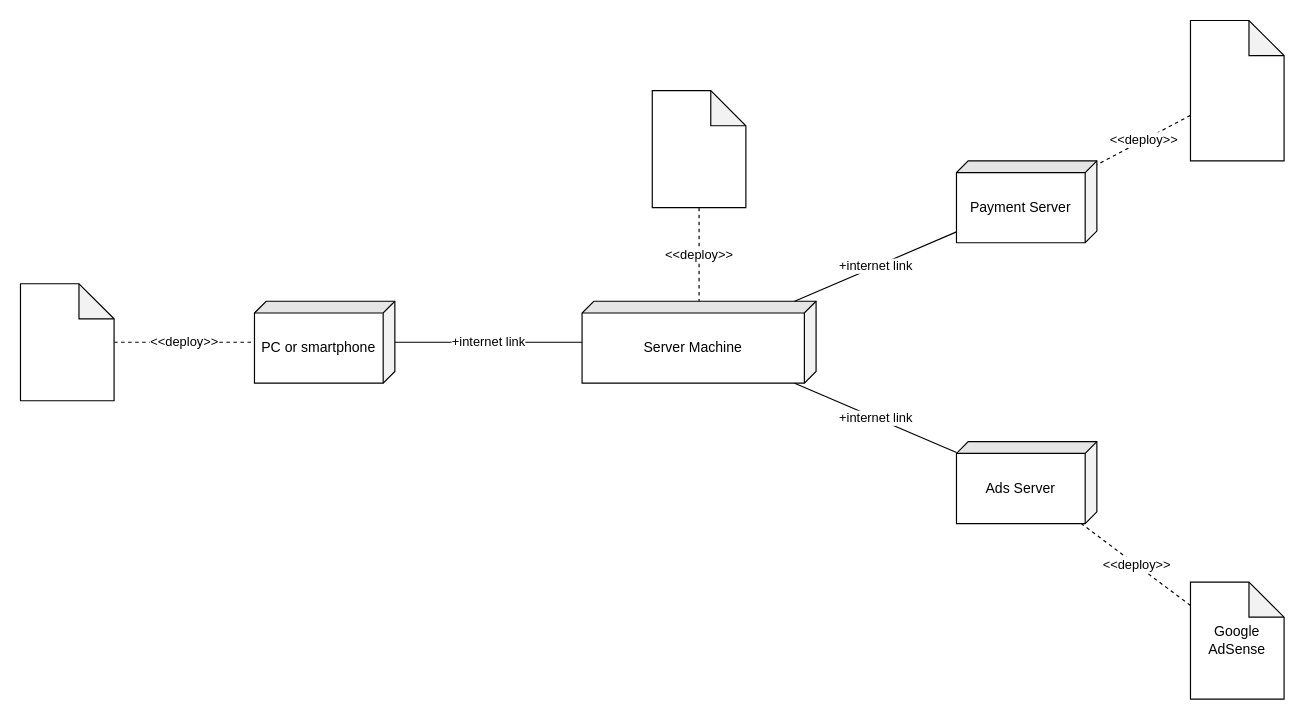
Image size: 1305x720. Some labels were removed from this diagram. The box of each missing label's shape, as (x1, y1, x2, y2) in pixels:
EZWallet Server: (651, 90, 746, 208)
Paypal Checkout: (1189, 19, 1284, 161)
Web EZWallet Client: (19, 283, 114, 401)
